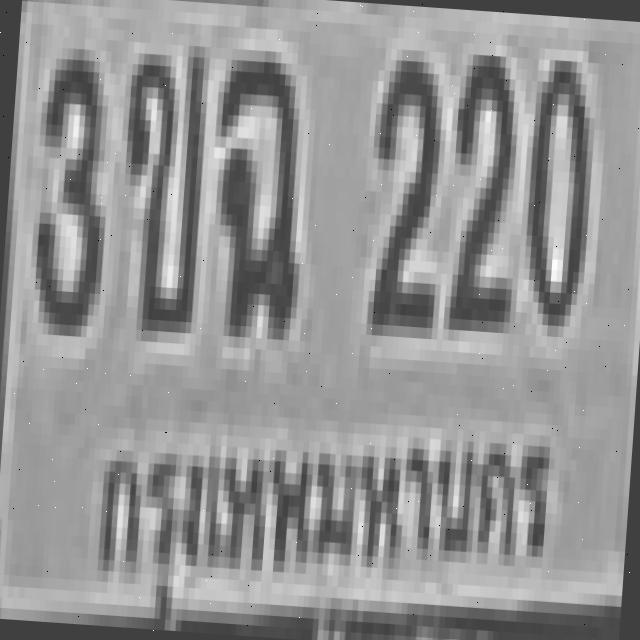0: (516, 52, 594, 322)
11KhorKhai: (109, 35, 205, 328)
18ChorChing: (202, 48, 308, 328)
2: (362, 42, 446, 322), (441, 42, 520, 322)
3: (27, 35, 112, 326)
